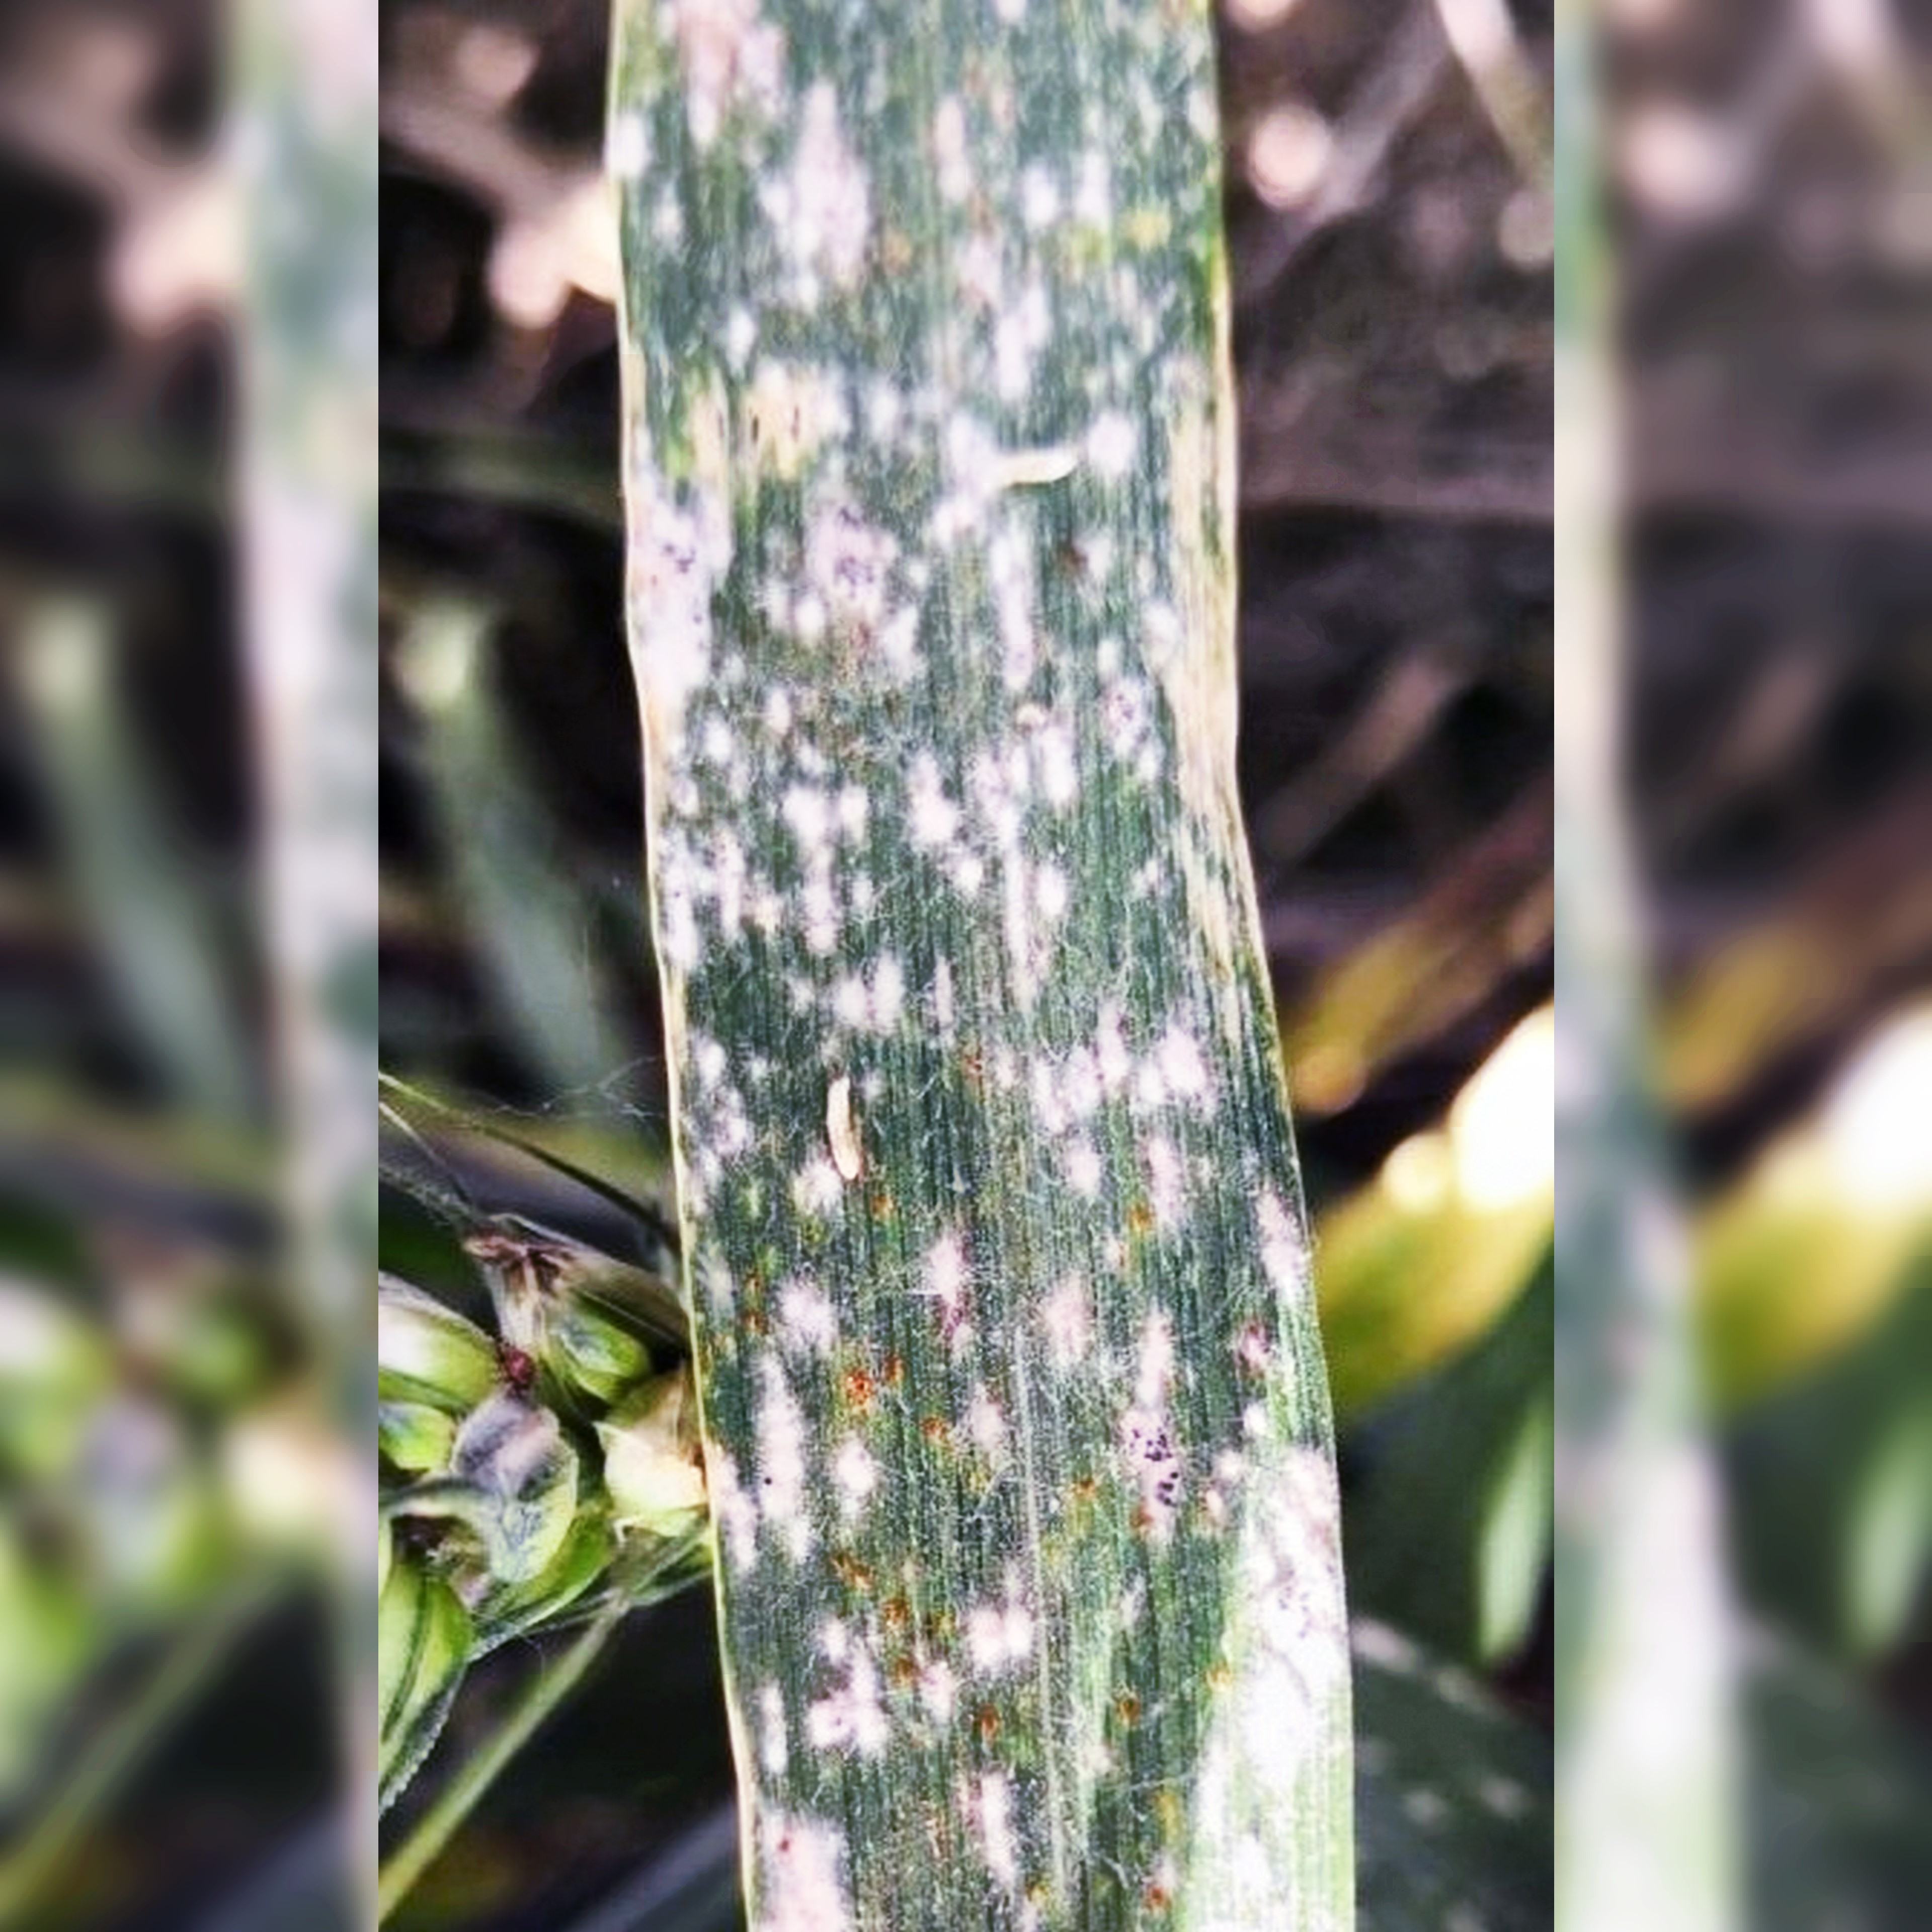Powdery Mildew: (653, 617, 1343, 1858)
